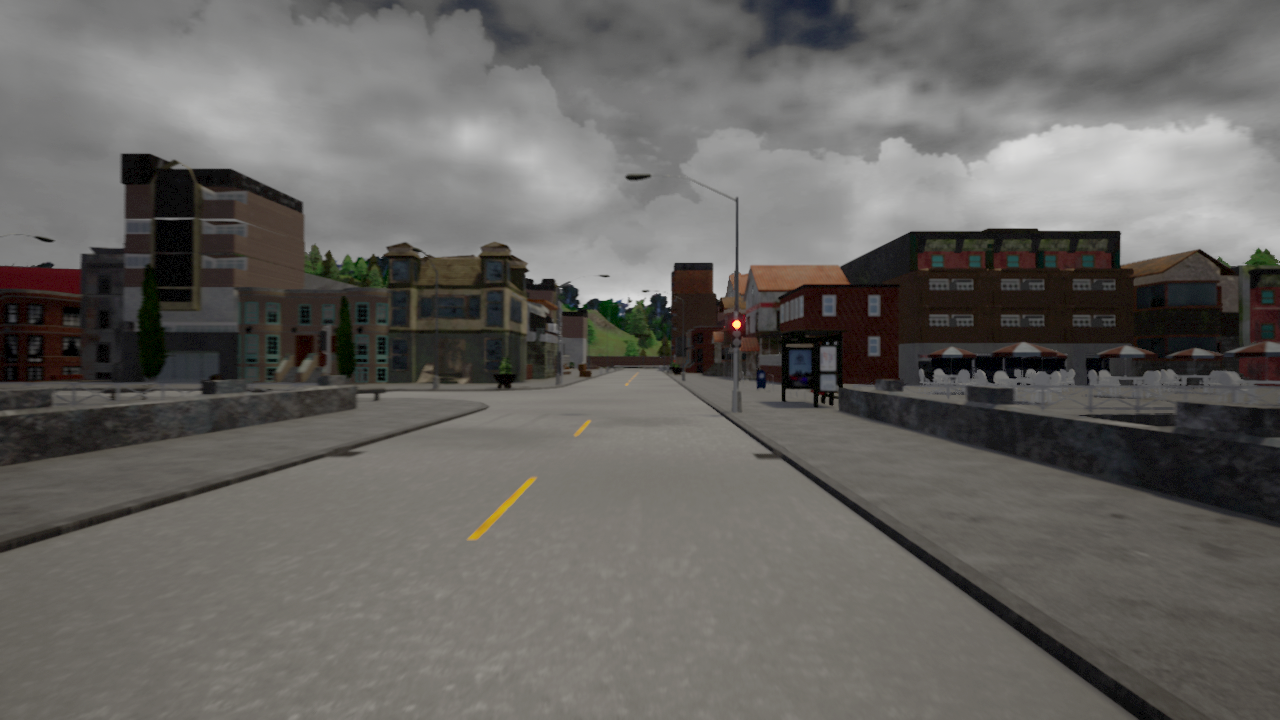red: (730, 317, 743, 349)
